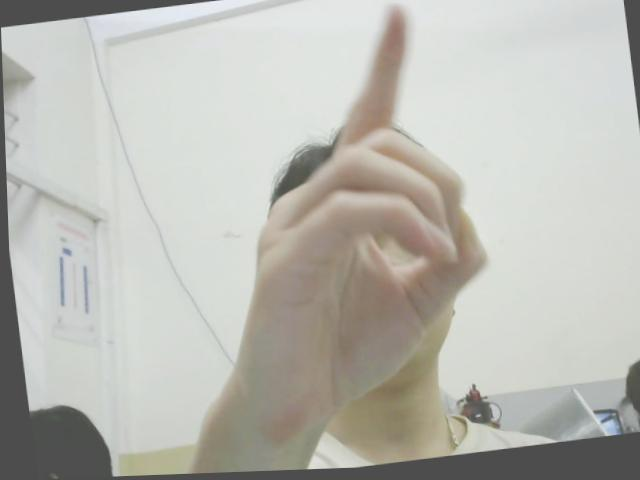D: (193, 0, 505, 435)
